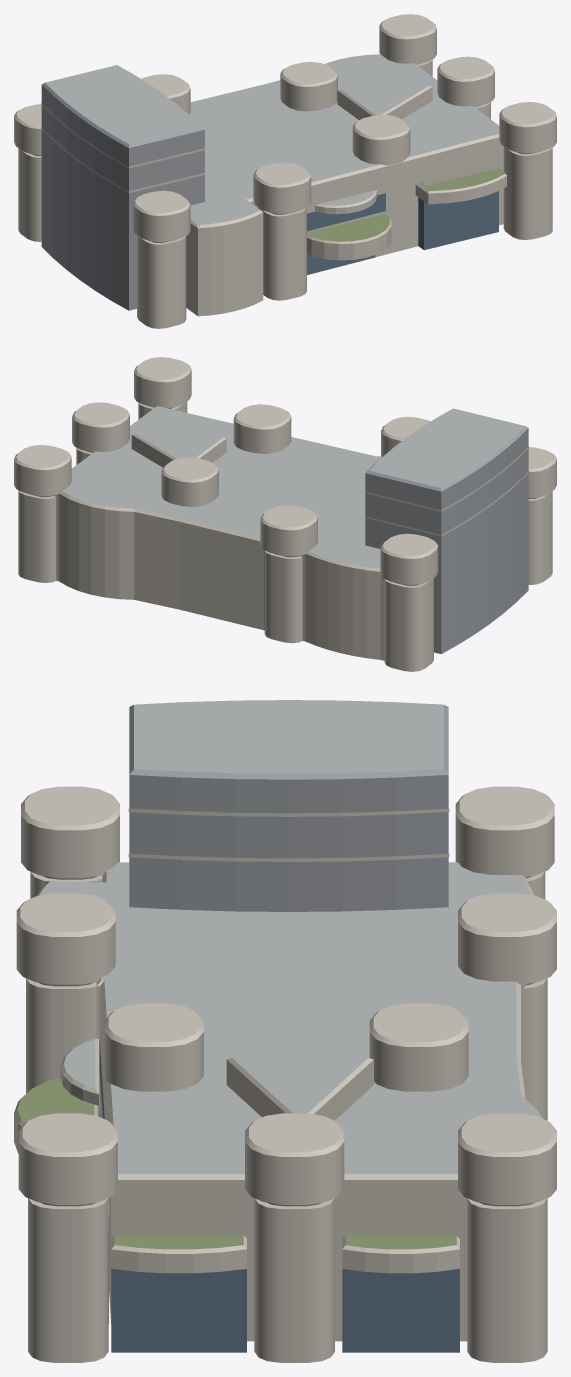
Rendered from hou-alley-theatre.glb.
3 views of the same model, one above another, from view 1: azimuth 30°, elevation 25°; view 2: azimuth 150°, elevation 25°; view 3: azimuth 270°, elevation 25° (orthographic). The views are drawn at different scales.
Parts seen in each view (by area): view 1: Alley Theatre; view 2: Alley Theatre; view 3: Alley Theatre.
Boxes of the visible parts, x1,y1,x2,y2 form: Alley Theatre: (14, 14, 556, 328); Alley Theatre: (14, 357, 556, 671); Alley Theatre: (14, 700, 556, 1362).
Bounding box in the file's own units: 77.24 × 29.4 × 47.98.
